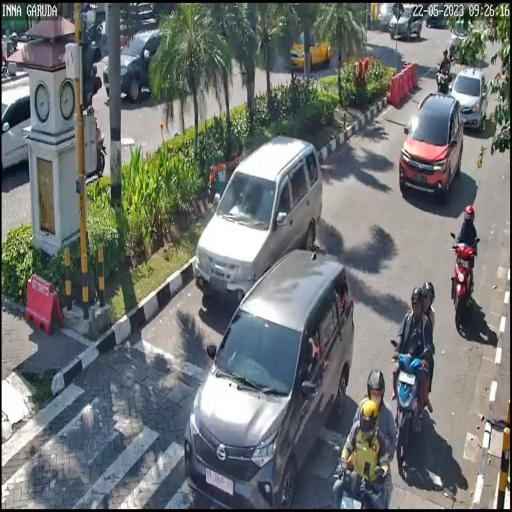mobil: (186, 256, 355, 512), (194, 129, 321, 304), (400, 93, 463, 209), (452, 66, 486, 128)
motor: (386, 332, 438, 485), (328, 413, 400, 512), (448, 227, 478, 332)
